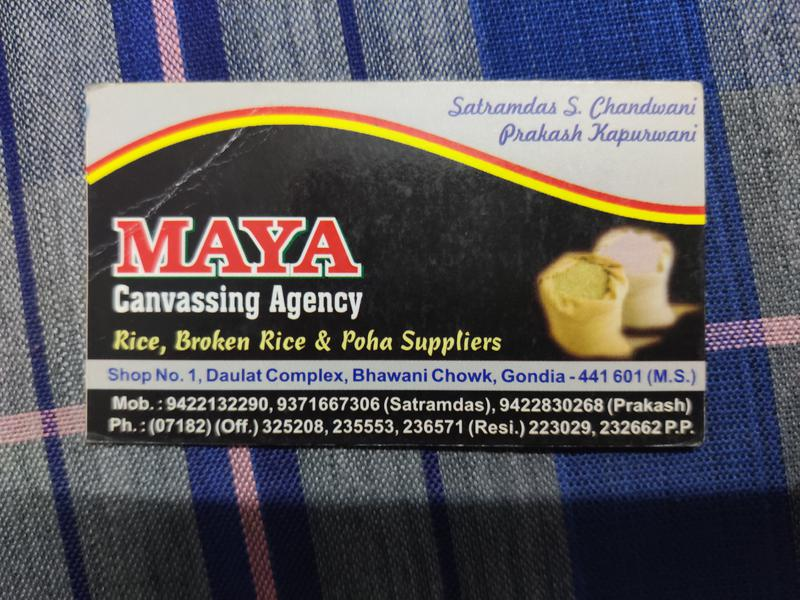card: (82, 79, 709, 452)
